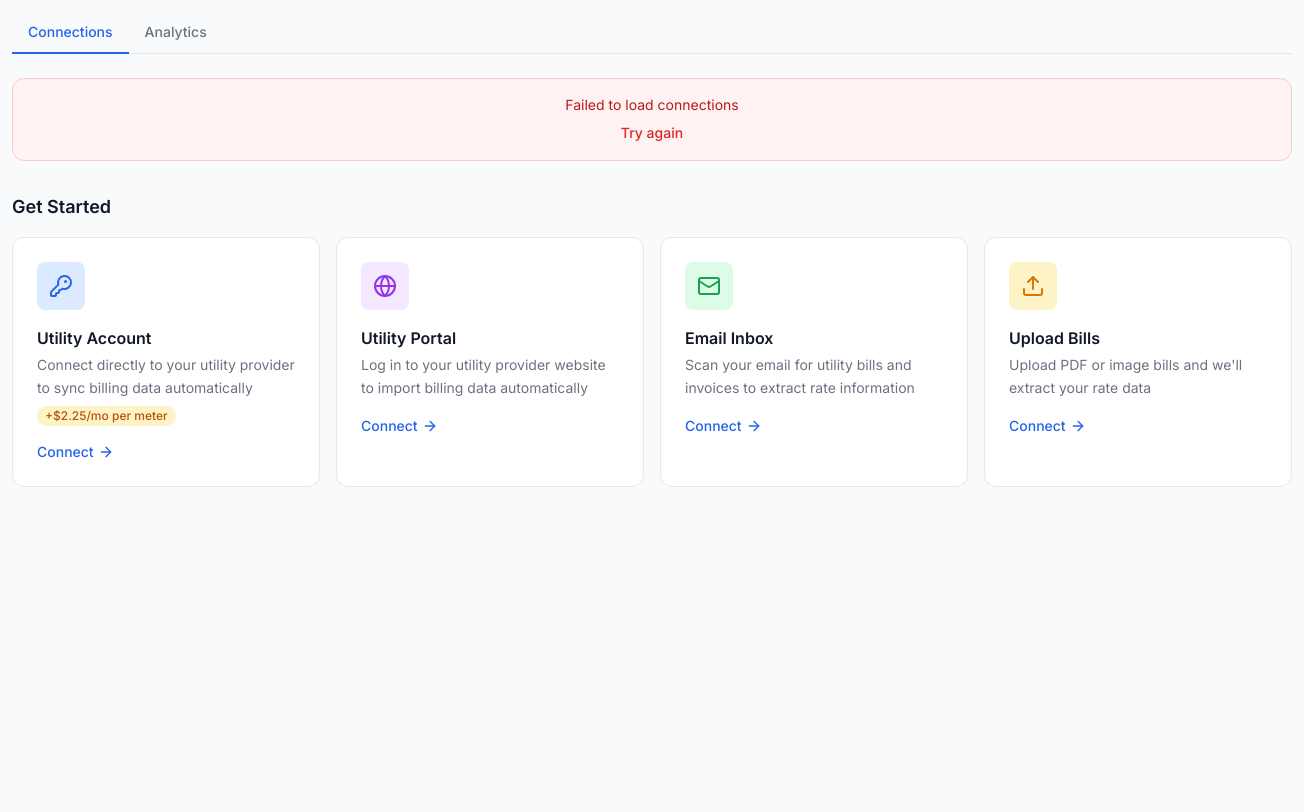
Scenario: ConnectionsOverview › retries fetching connections when Try again is clicked
Expected: the text "Failed to load connections" is shown, [565, 96, 739, 113]
Click the button "Try again" at {"x": 652, "y": 133}, box [621, 123, 683, 143]
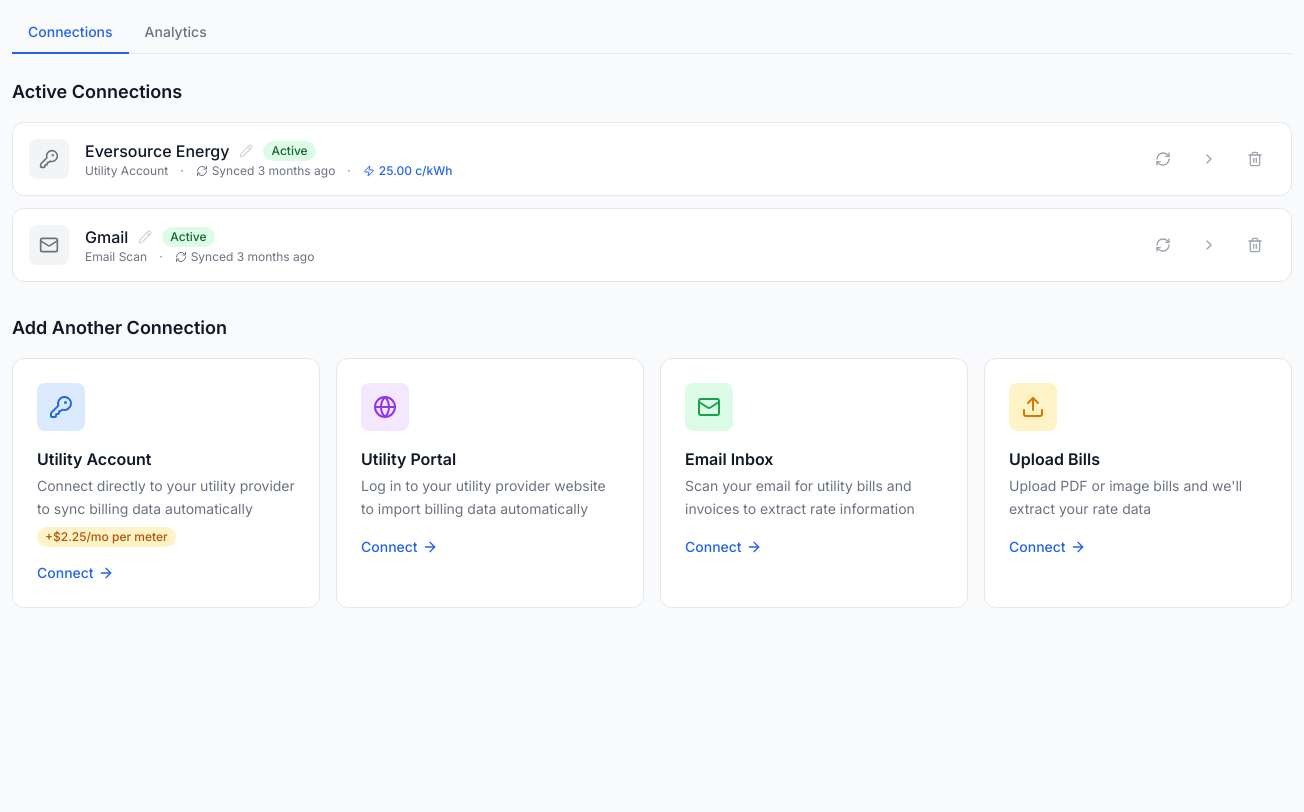
Expected: the text "Eversource Energy" is shown, [85, 139, 230, 163]
